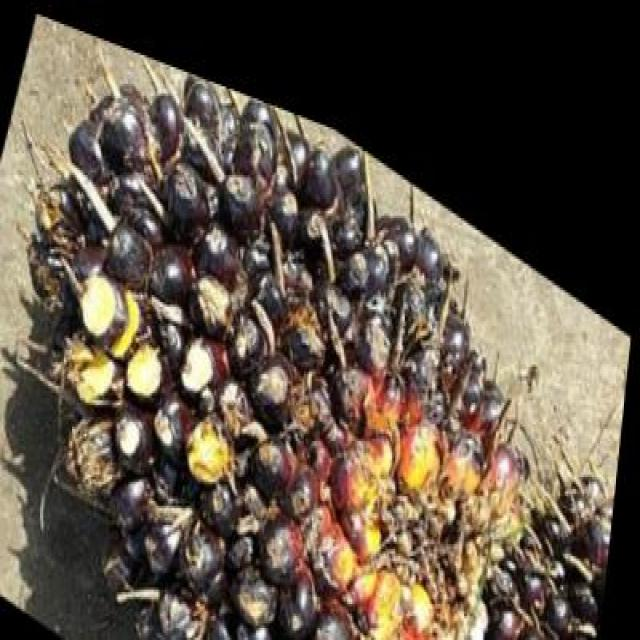Unripe: (0, 0, 586, 640)
